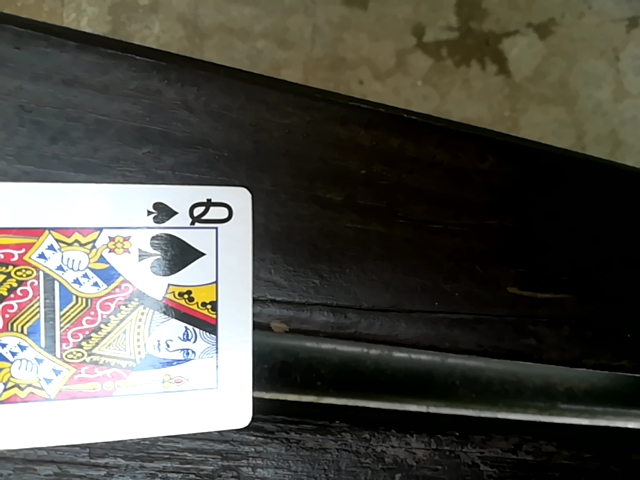ht q: (0, 175, 251, 466)
